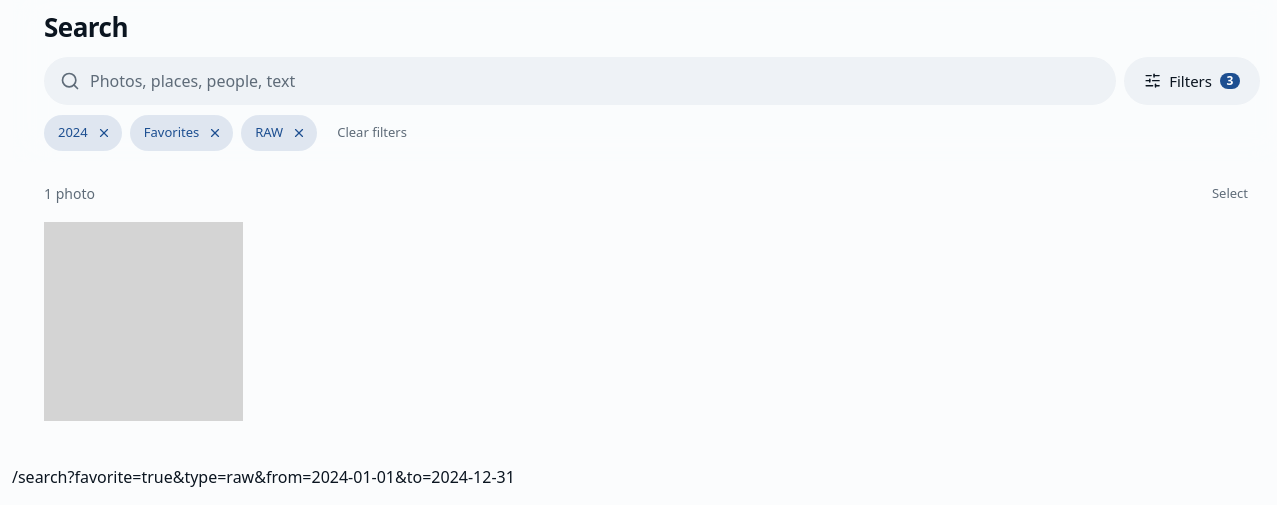
Search page › shows a chip per filter and removing one searches again without it
Expected: the text "2024" is shown, [58, 123, 88, 143]
Expected: the text "Favorites" is shown, [144, 123, 199, 143]
Click the button named "Remove filter Favorites" at (215, 133), box [201, 119, 229, 147]
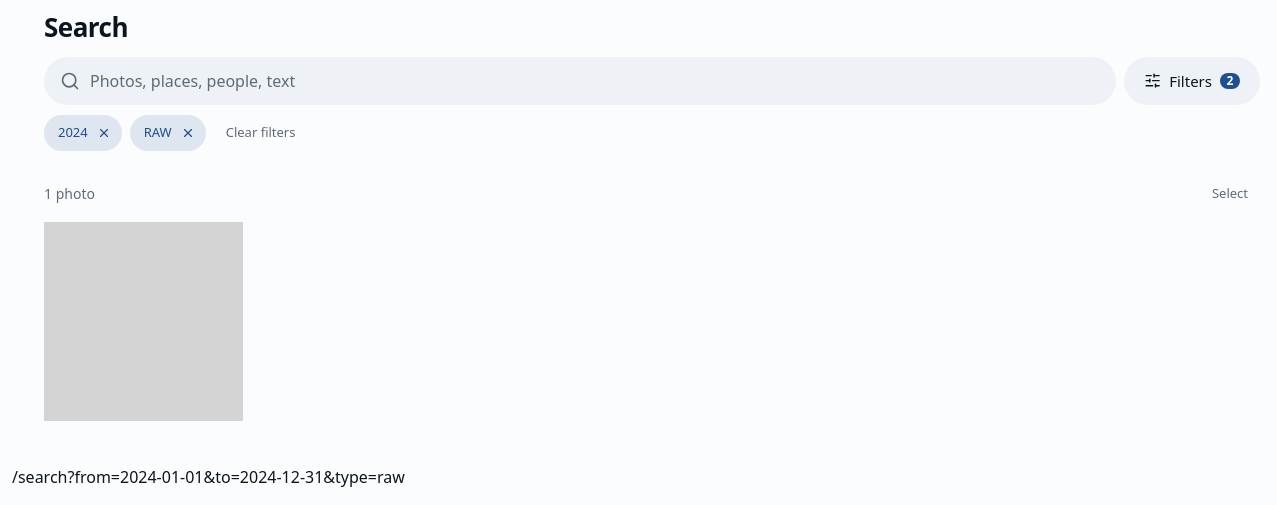
Expected: the text with test id "where" shows "type=raw", [12, 466, 405, 488]
Now the text with test id "where" no longer shows "Favorite", box [12, 466, 405, 488]
